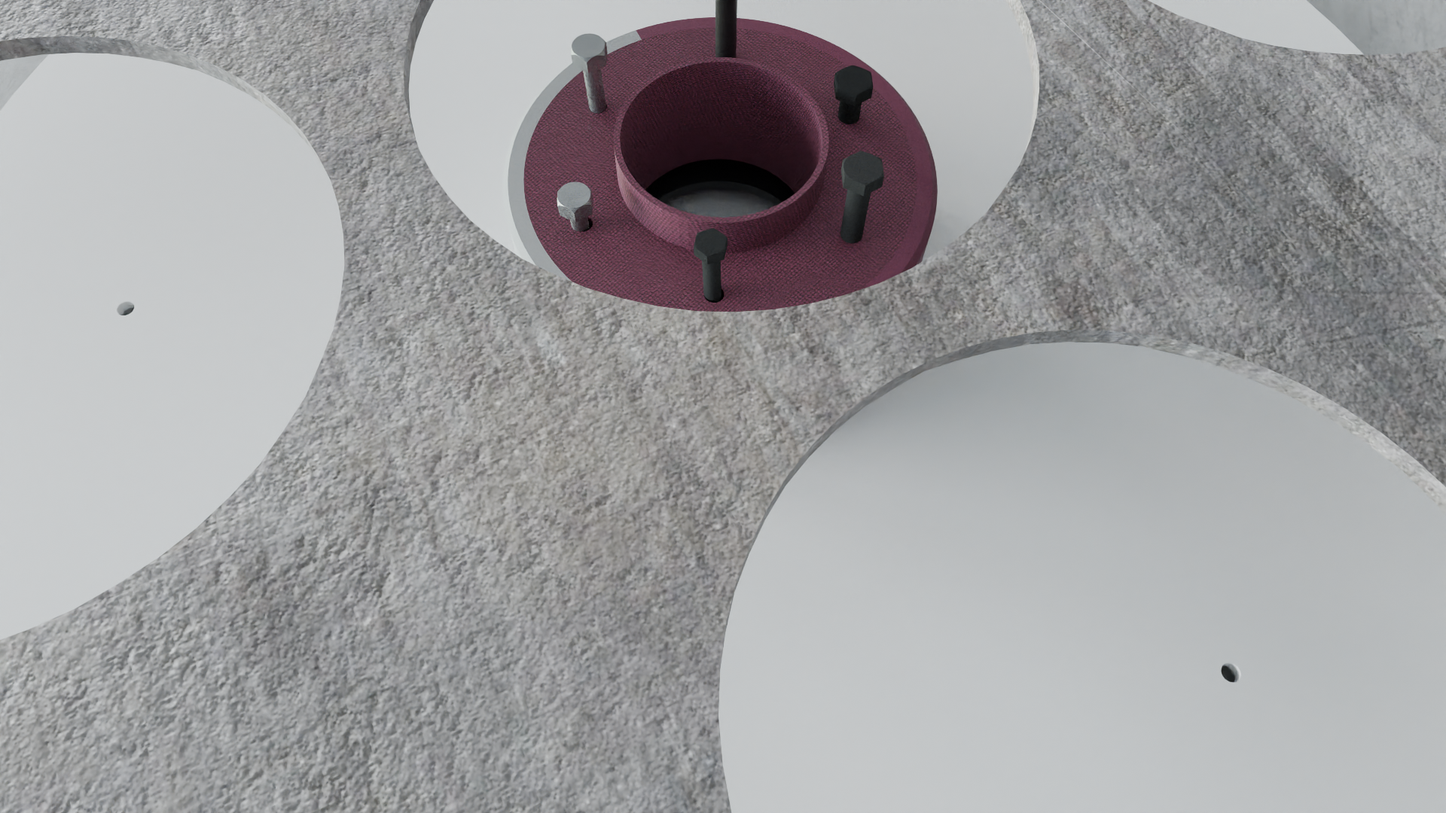bolt: (843, 151, 884, 186), (835, 65, 873, 96), (557, 182, 591, 213), (571, 33, 606, 62), (694, 228, 728, 257)
